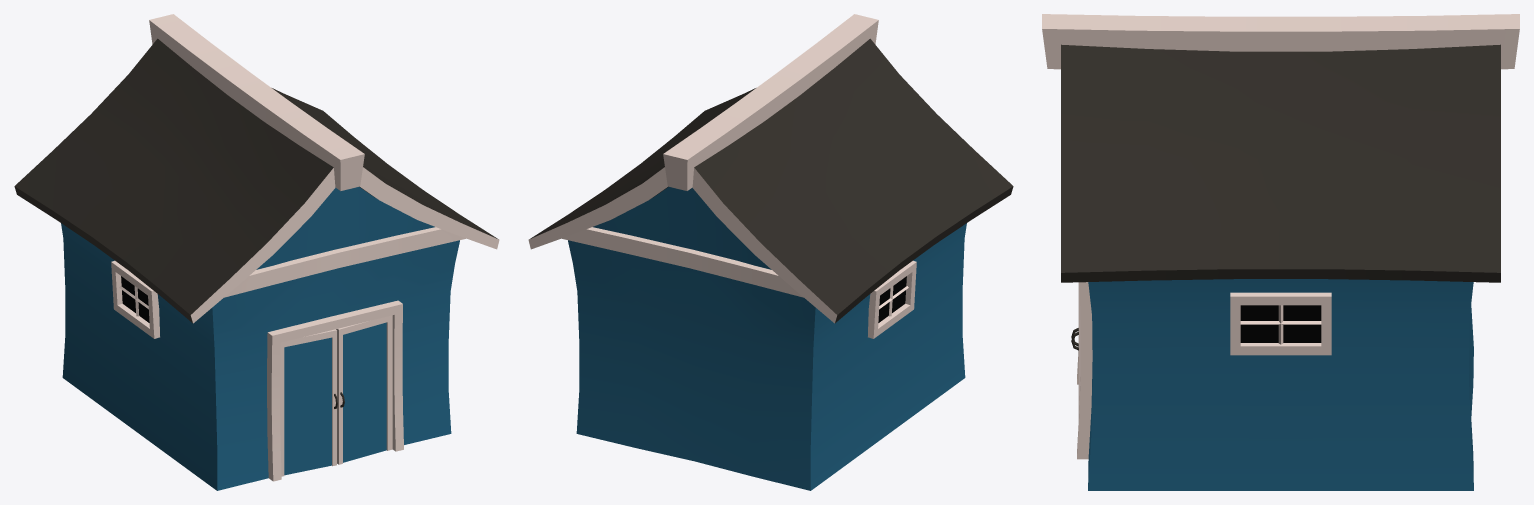
Rendered from Shed.fbx.
3 views of the same model, side by side, from view 1: azimuth 30°, elevation 25°; view 2: azimuth 150°, elevation 25°; view 3: azimuth 270°, elevation 25° (orthographic). The views are drawn at different scales.
Visible parts, largest first — view 1: shed; view 2: shed; view 3: shed.
Part boxes in pixels (x1,y1,x2,y2): shed: (14,14,499,490); shed: (528,14,1013,490); shed: (1042,14,1519,490).
Size of the model in its own units: 5.04 by 4.97 by 5.4.
